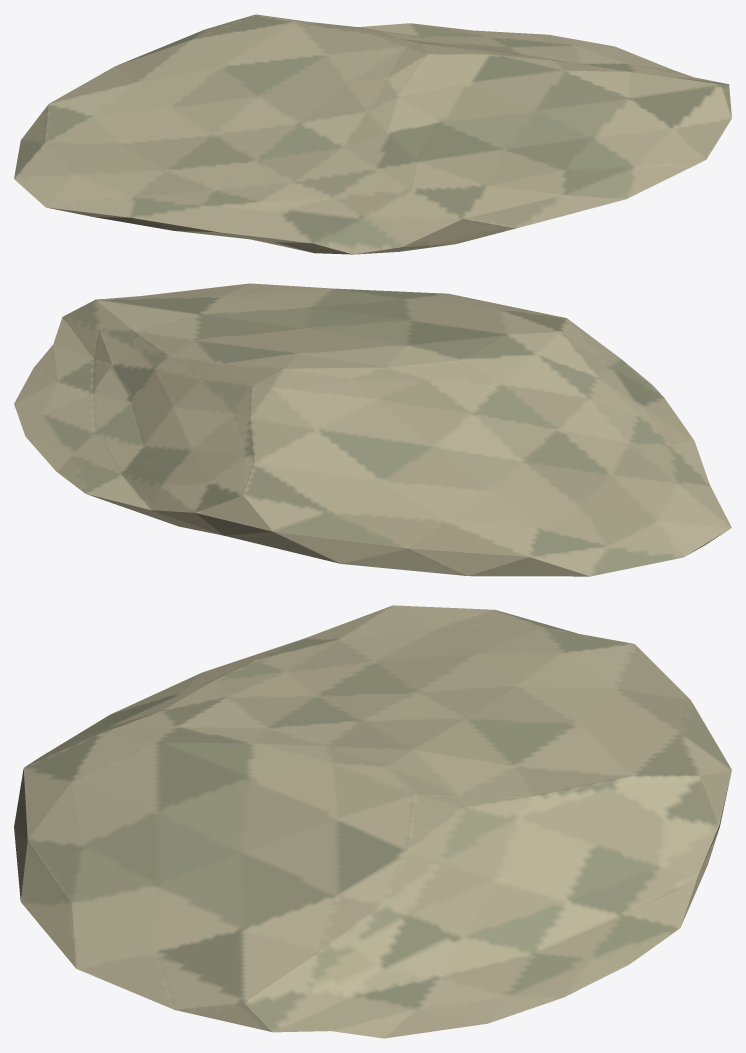
The model's file is SM_Rock_Slab.glb.
3 views of the same model, one above another, from view 1: azimuth 30°, elevation 25°; view 2: azimuth 150°, elevation 25°; view 3: azimuth 270°, elevation 25° (orthographic). The views are drawn at different scales.
Visible parts, largest first — view 1: SM_Rock_Slab; view 2: SM_Rock_Slab; view 3: SM_Rock_Slab.
Part boxes in pixels (x1,y1,x2,y2): SM_Rock_Slab: (14,14,731,254); SM_Rock_Slab: (14,283,731,576); SM_Rock_Slab: (14,605,731,1038).
Size of the model in its own units: 2.27 by 0.2542 by 1.61.
Materials: 1 (1 with a texture image).
